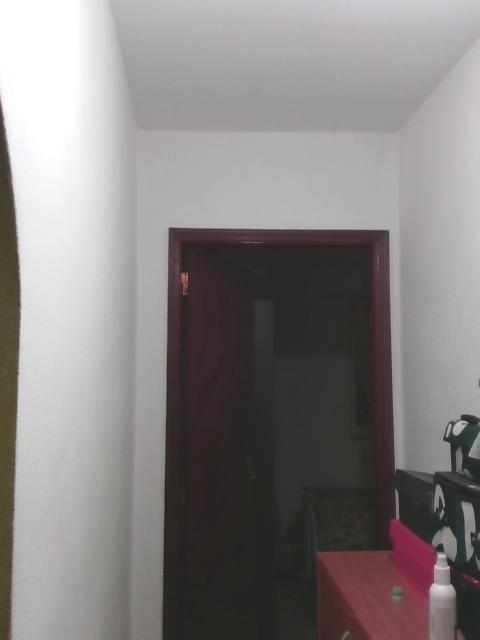open_door: (161, 222, 397, 638)
